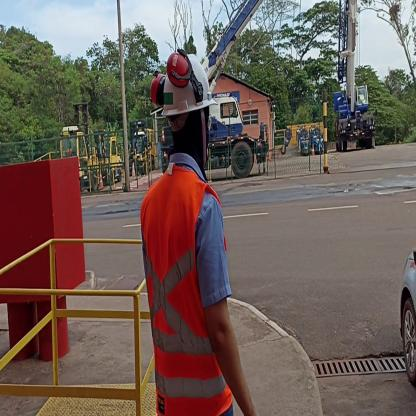Balaclava: (171, 115, 210, 161)
Capacete: (157, 50, 216, 113)
colete: (147, 185, 227, 412)
